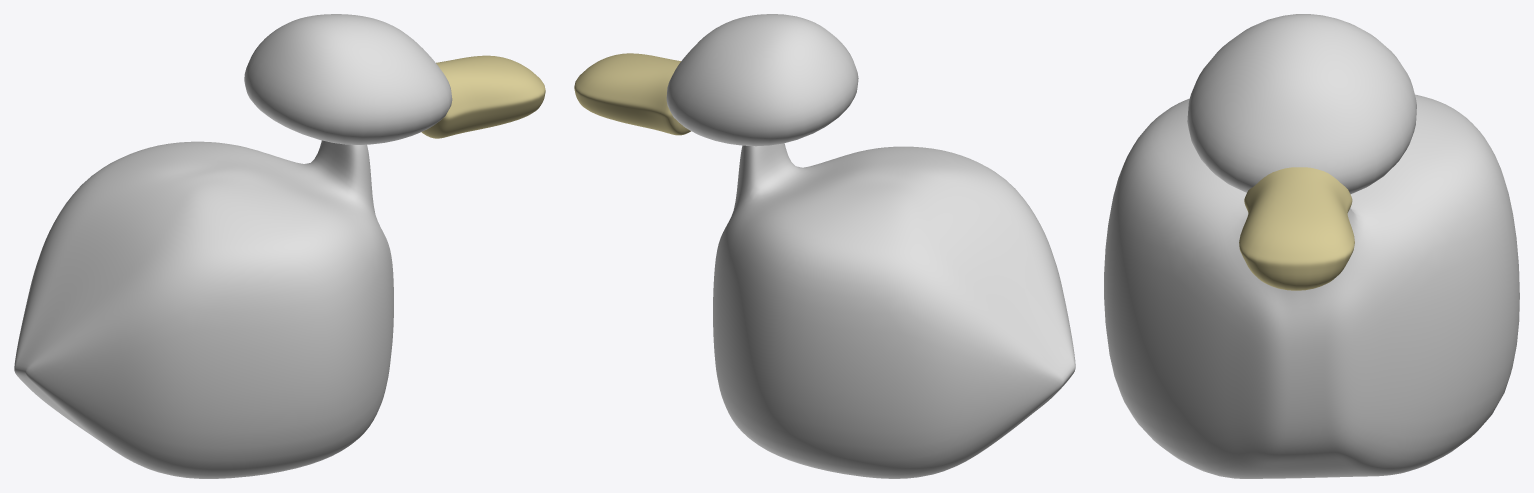
File: babyWhiteDuck_noanim.fbx
3 views of the same model, side by side, from view 1: azimuth 30°, elevation 25°; view 2: azimuth 150°, elevation 25°; view 3: azimuth 270°, elevation 25° (orthographic). The views are drawn at different scales.
Parts seen in each view (by area): view 1: polySurface8; view 2: polySurface8; view 3: polySurface8.
Part boxes in pixels (x1,y1,x2,y2): polySurface8: (14, 14, 545, 478); polySurface8: (574, 14, 1075, 478); polySurface8: (1104, 14, 1519, 478).
Bounding box in the file's own units: 5.12 × 3.72 × 3.02.
